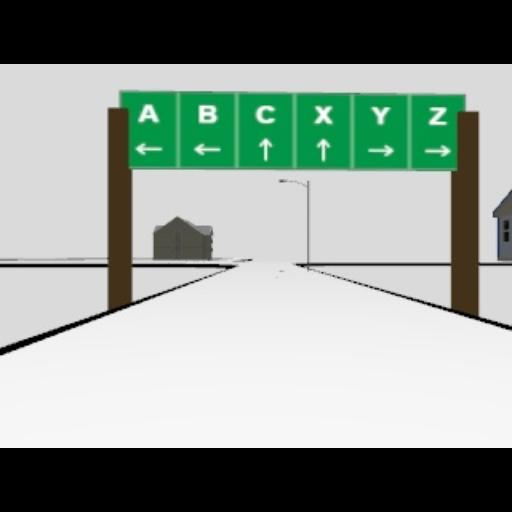A: (138, 102, 158, 124)
B: (196, 104, 216, 124)
C: (254, 104, 276, 124)
Left: (134, 142, 164, 156), (191, 142, 221, 156)
Right: (422, 144, 452, 156), (366, 144, 394, 156)
Straight: (258, 138, 272, 160), (315, 138, 329, 160)
X: (314, 104, 332, 124)
Y: (370, 106, 390, 124)
Z: (428, 106, 448, 124)
